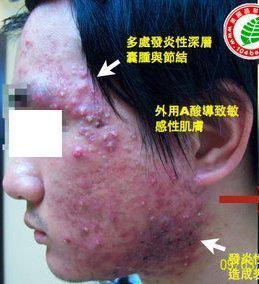fore: (61, 99, 80, 119), (55, 232, 78, 248), (74, 172, 93, 190), (192, 205, 210, 222), (143, 175, 162, 190), (161, 213, 176, 232), (164, 191, 180, 208), (29, 90, 46, 106), (122, 259, 138, 275), (171, 170, 188, 184), (103, 212, 120, 226), (144, 235, 161, 249), (101, 141, 122, 152), (114, 159, 129, 174), (69, 252, 84, 267), (120, 195, 133, 212), (52, 87, 70, 99), (102, 252, 117, 266), (104, 180, 118, 195), (68, 191, 81, 207), (72, 83, 89, 95), (120, 224, 137, 236), (11, 64, 28, 76), (134, 195, 147, 210), (51, 265, 64, 280), (176, 255, 193, 266), (116, 178, 127, 195), (20, 35, 34, 48), (51, 192, 65, 205), (172, 208, 187, 220), (80, 110, 93, 123), (186, 183, 199, 196), (78, 221, 90, 235), (124, 174, 136, 188), (145, 214, 160, 225), (103, 194, 118, 205), (61, 207, 72, 222), (107, 129, 123, 139), (96, 105, 109, 117), (42, 53, 55, 65), (119, 143, 133, 154), (43, 103, 61, 111), (180, 195, 192, 207), (153, 190, 166, 201), (127, 131, 140, 142), (176, 227, 190, 237), (91, 163, 105, 173), (74, 69, 91, 77), (87, 85, 99, 96), (89, 133, 101, 144), (90, 201, 101, 213), (151, 201, 163, 212), (58, 263, 72, 272), (74, 127, 94, 133), (93, 233, 101, 247), (68, 216, 78, 227), (94, 173, 104, 183), (97, 116, 104, 128), (75, 146, 81, 158), (72, 103, 81, 111), (95, 182, 104, 190)
